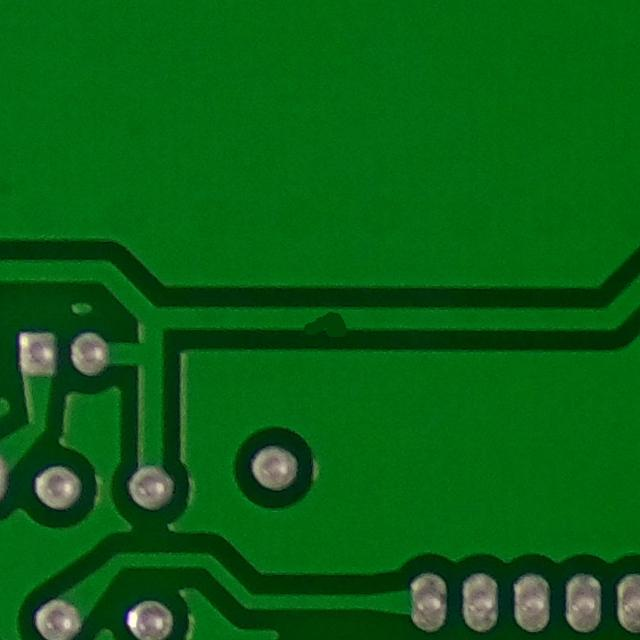mouse_bite: (282, 295, 358, 345)
